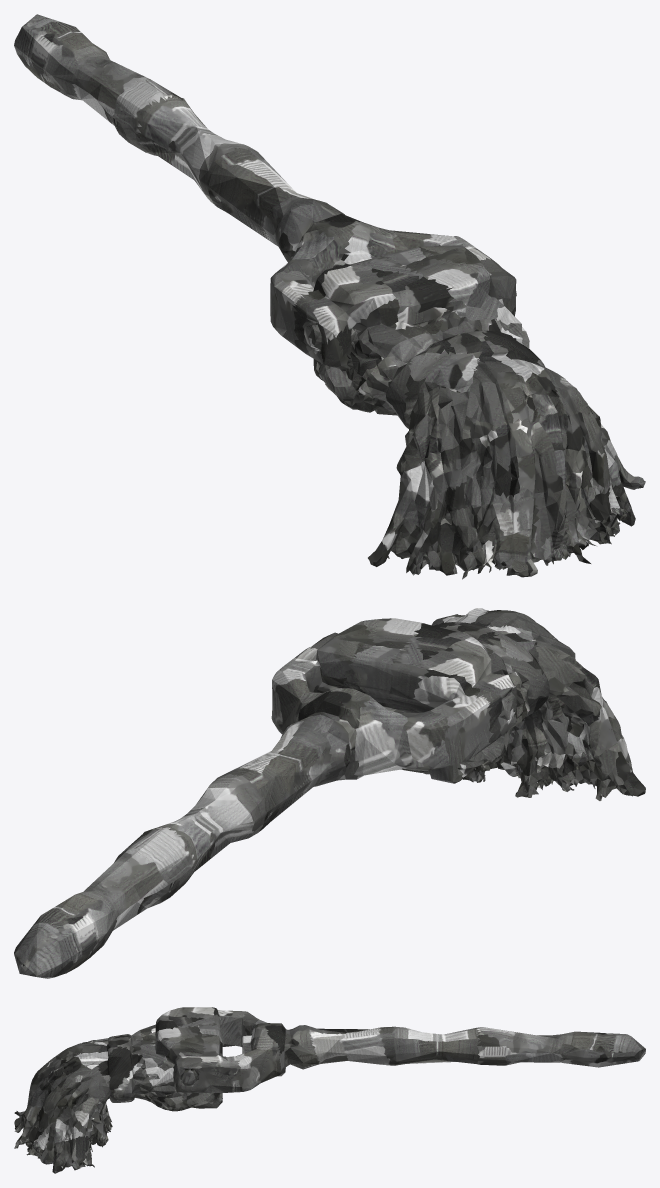
The model's file is Mop_Reduce.fbx.
The picture shows the model from 3 angles, top to bottom: view 1: azimuth 30°, elevation 25°; view 2: azimuth 150°, elevation 25°; view 3: azimuth 270°, elevation 25°; orthographic projection. The views are drawn at different scales.
Parts seen in each view (by area): view 1: Mesh_0; view 2: Mesh_0; view 3: Mesh_0.
Part boxes in pixels (box(x1,y1,x2,y2)): Mesh_0: box(14, 14, 645, 579); Mesh_0: box(14, 608, 645, 978); Mesh_0: box(14, 1007, 645, 1173).
Bounding box in the file's own units: 56.81 × 38.39 × 190.
